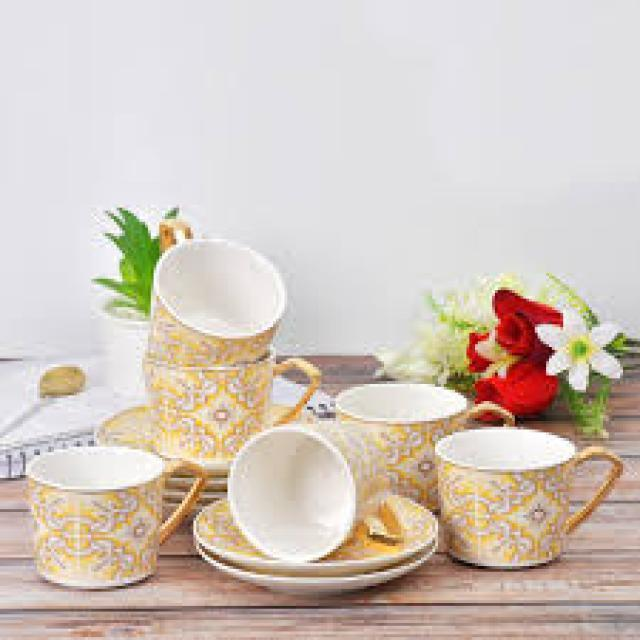taza: (20, 438, 215, 588), (418, 434, 624, 562), (217, 425, 409, 562), (136, 228, 288, 354), (329, 374, 515, 436)
